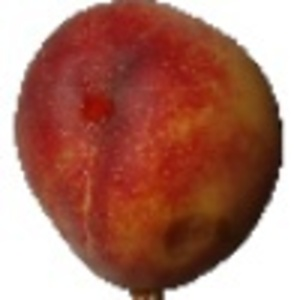pêssego: (9, 1, 286, 300)
